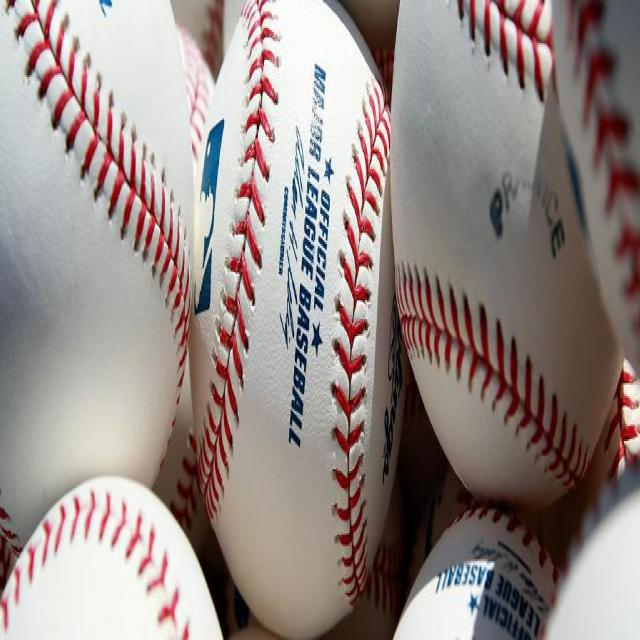baseball: (188, 6, 404, 634), (391, 7, 604, 515), (1, 7, 193, 554)
